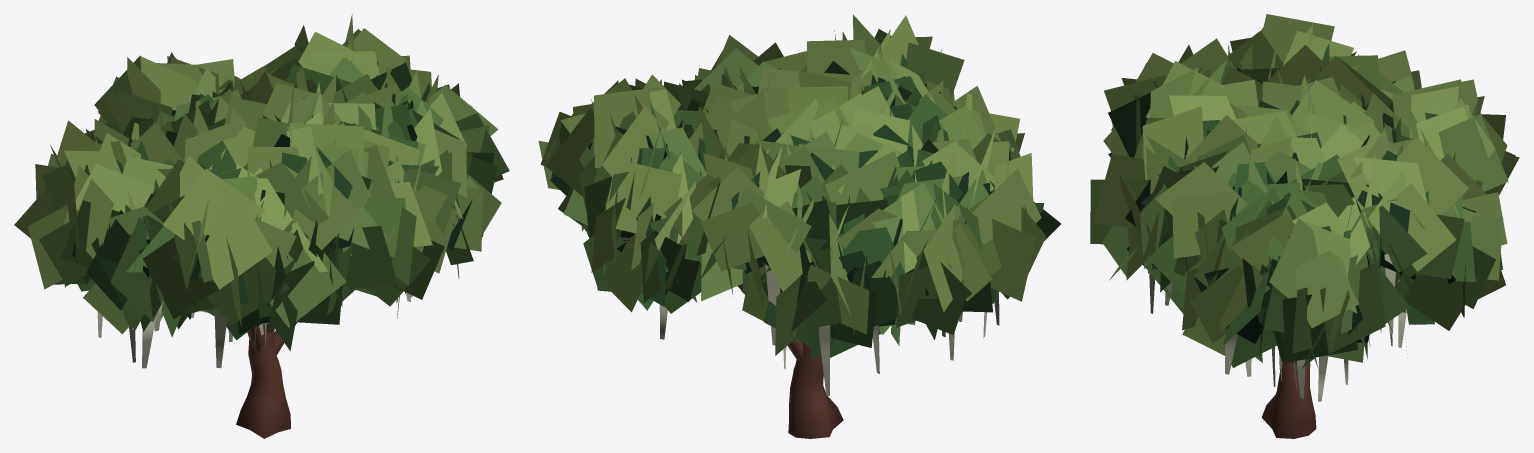
Rendered from LiveOak.fbx.
The picture shows the model from 3 angles, left to right: view 1: azimuth 30°, elevation 25°; view 2: azimuth 150°, elevation 25°; view 3: azimuth 270°, elevation 25°; orthographic projection. The views are drawn at different scales.
Parts seen in each view (by area): view 1: LiveOak; view 2: LiveOak; view 3: LiveOak.
Boxes of the visible parts, <box> form: LiveOak: <box>14,14,509,438</box>; LiveOak: <box>538,14,1061,438</box>; LiveOak: <box>1090,14,1519,438</box>.
Size of the model in its own units: 11.36 by 8.33 by 8.88.
